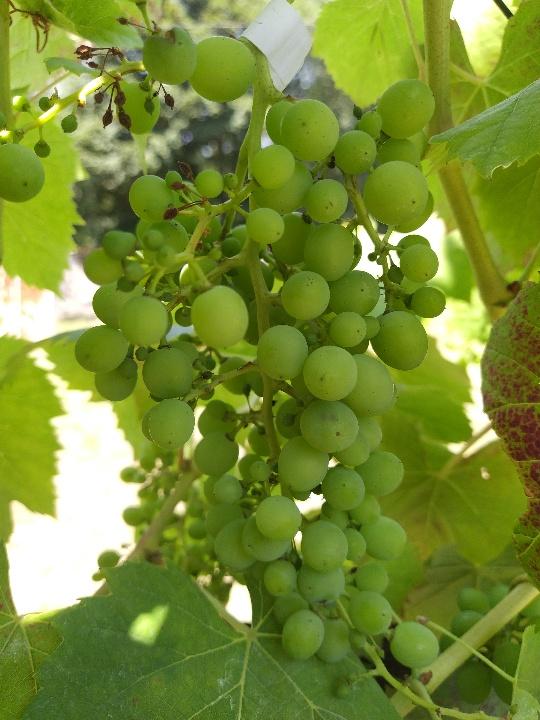grape: (69, 76, 443, 669)
